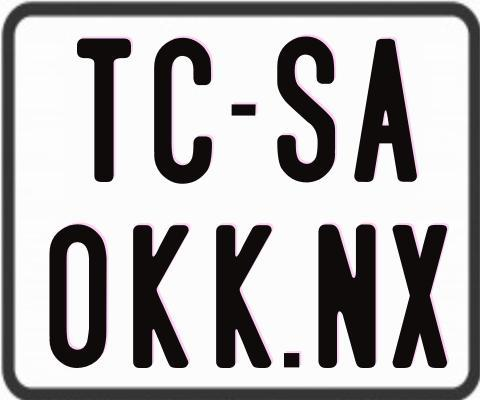0: (46, 222, 108, 371)
A: (351, 36, 417, 185)
C: (154, 37, 216, 187)
K: (213, 223, 275, 368), (131, 225, 188, 372)
N: (315, 221, 375, 365)
S: (276, 36, 337, 185)
T: (74, 38, 132, 186)
X: (390, 223, 447, 367)
